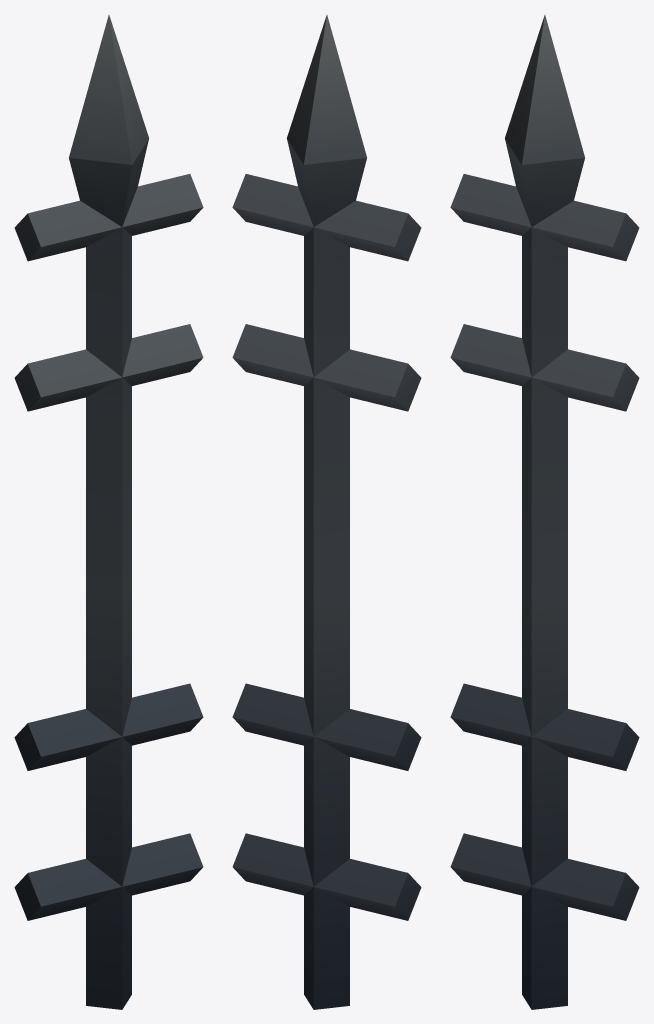
The model's file is Fence_Single_Iron_01.fbx.
3 views of the same model, side by side, from view 1: azimuth 30°, elevation 25°; view 2: azimuth 150°, elevation 25°; view 3: azimuth 330°, elevation 25° (orthographic).
Parts seen in each view (by area): view 1: Fence_Single_Iron_01; view 2: Fence_Single_Iron_01; view 3: Fence_Single_Iron_01.
Boxes of the visible parts, bbox=[...] form: Fence_Single_Iron_01: bbox=[14, 15, 203, 1009]; Fence_Single_Iron_01: bbox=[232, 15, 421, 1009]; Fence_Single_Iron_01: bbox=[450, 15, 639, 1009].
Size of the model in its own units: 50 by 290 by 24.74.
